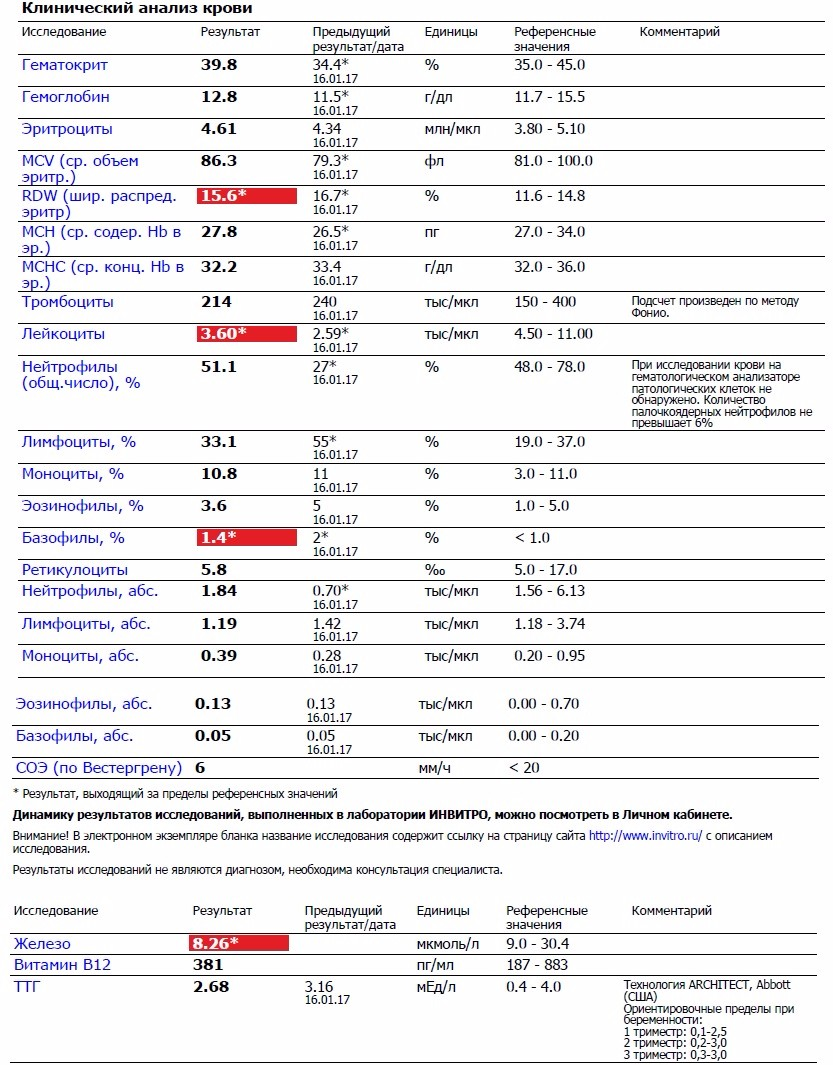column: (630, 21, 813, 778), (14, 21, 185, 778), (305, 21, 405, 778), (507, 21, 597, 778), (194, 21, 261, 778), (417, 21, 479, 778), (622, 903, 795, 1062), (303, 903, 405, 1062), (12, 903, 111, 1062), (504, 903, 589, 1062), (415, 903, 480, 1062), (191, 903, 253, 1062)
